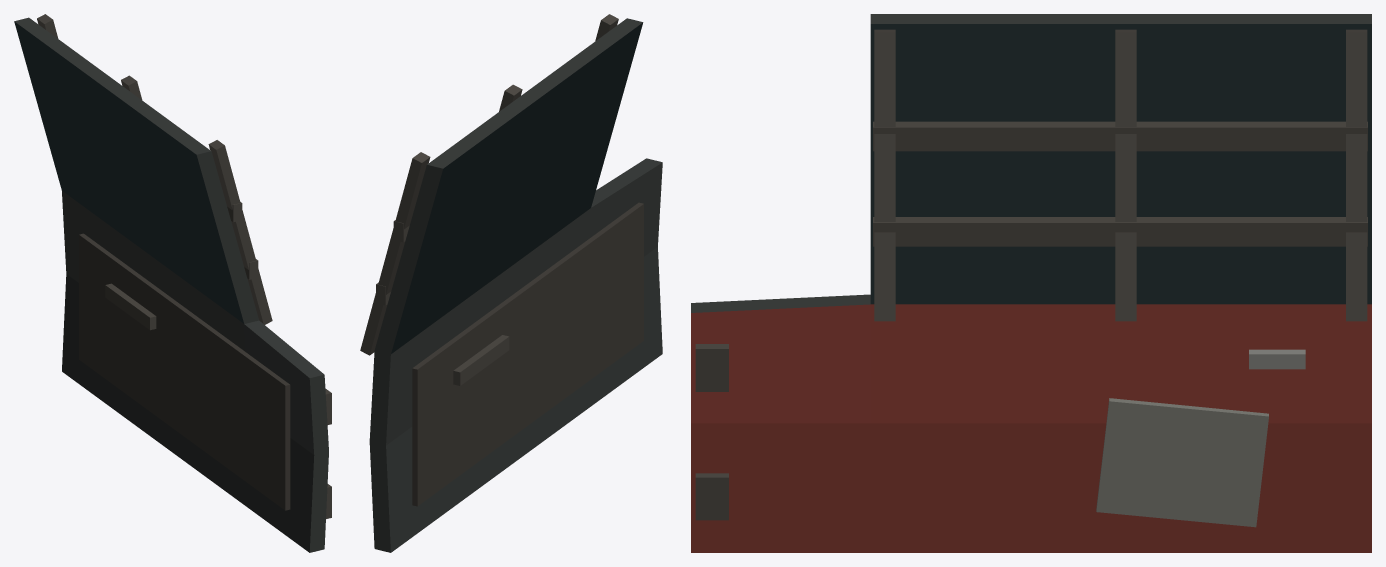
Rendered from carreta_porta.glb.
The picture shows the model from 3 angles, left to right: view 1: azimuth 30°, elevation 25°; view 2: azimuth 150°, elevation 25°; view 3: azimuth 270°, elevation 25°; orthographic projection. The views are drawn at different scales.
Visible parts, largest first — view 1: carreta_porta.001; view 2: carreta_porta.001; view 3: carreta_porta.001.
Part boxes in pixels (x1,y1,x2,y2): carreta_porta.001: (14, 14, 331, 552); carreta_porta.001: (360, 14, 662, 552); carreta_porta.001: (691, 14, 1371, 552).
Bounding box in the file's own units: 0.2595 × 1.16 × 1.44.
